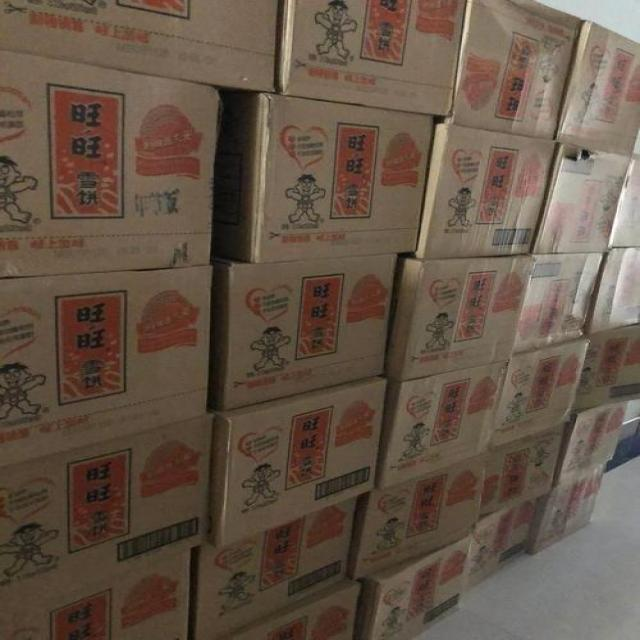box: (0, 42, 225, 270), (0, 263, 221, 460), (0, 409, 202, 601), (222, 88, 432, 256), (210, 256, 402, 412), (204, 371, 368, 543), (0, 0, 276, 91), (260, 0, 458, 124), (202, 493, 358, 634), (445, 0, 594, 146), (413, 119, 548, 260), (391, 241, 518, 376), (352, 452, 483, 580), (380, 361, 502, 481), (536, 133, 626, 264), (562, 16, 640, 157), (511, 234, 600, 352), (490, 339, 585, 447)
